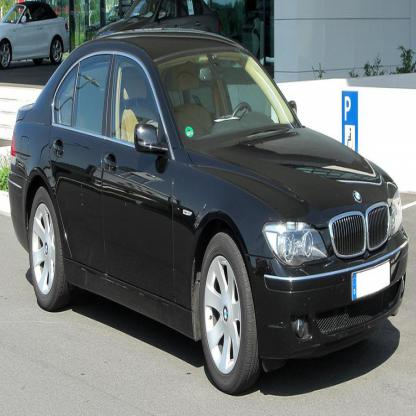Car: (7, 34, 406, 387), (0, 0, 68, 71), (100, 0, 224, 34)
